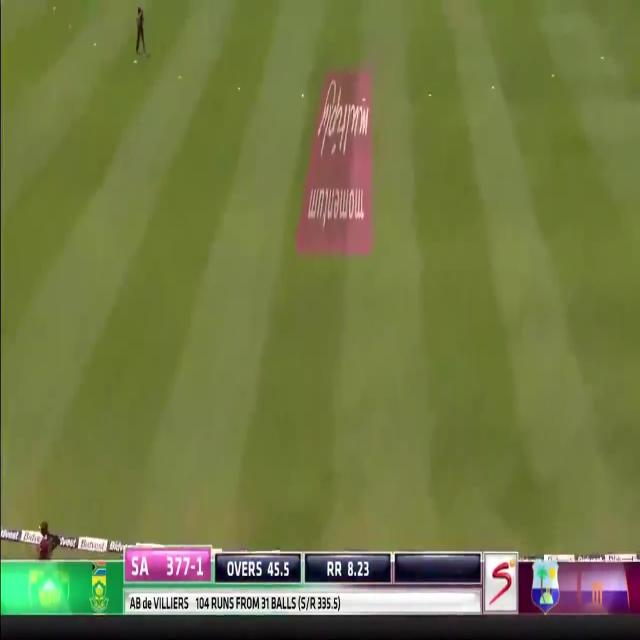Fielder: (132, 5, 148, 61)
